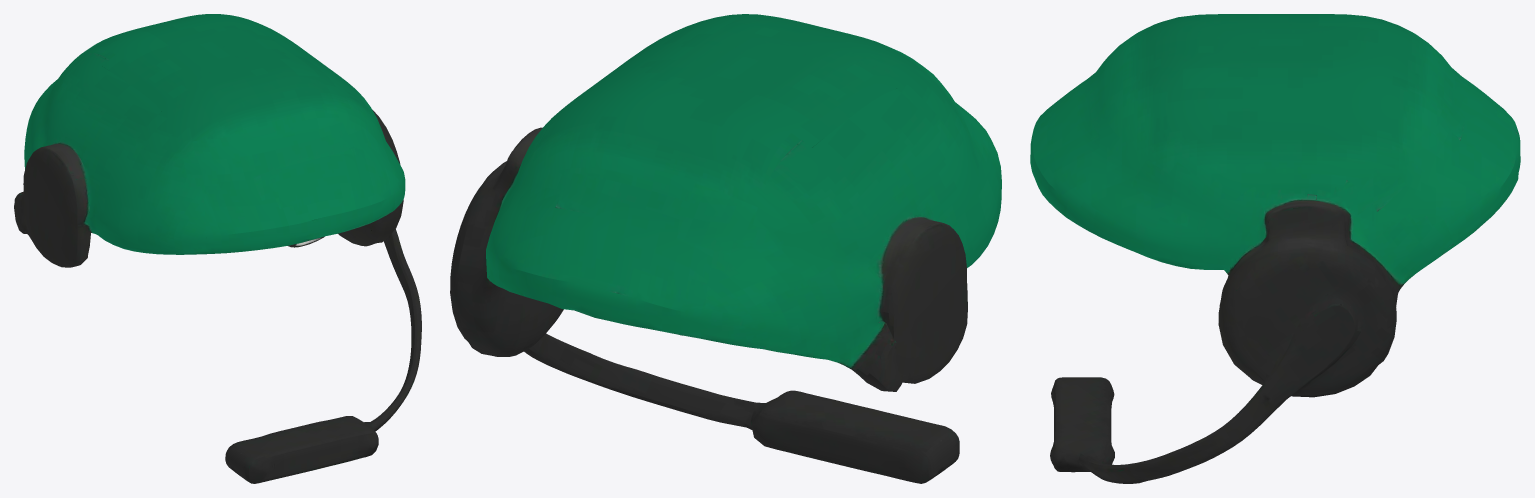
The model's file is emerald-arc-headset.glb.
3 renders of one model, left to right at view 1: azimuth 30°, elevation 25°; view 2: azimuth 150°, elevation 25°; view 3: azimuth 270°, elevation 25°, orthographic. The views are drawn at different scales.
Visible parts, largest first — view 1: Mesh0; view 2: Mesh0; view 3: Mesh0.
Part boxes in pixels (x1=…): Mesh0: x1=14, y1=14, x2=421, y2=483; Mesh0: x1=450, y1=14, x2=1001, y2=483; Mesh0: x1=1030, y1=14, x2=1520, y2=483.
Bounding box in the file's own units: 1.7 × 1.7 × 1.9.
1 material, 1 textured.
